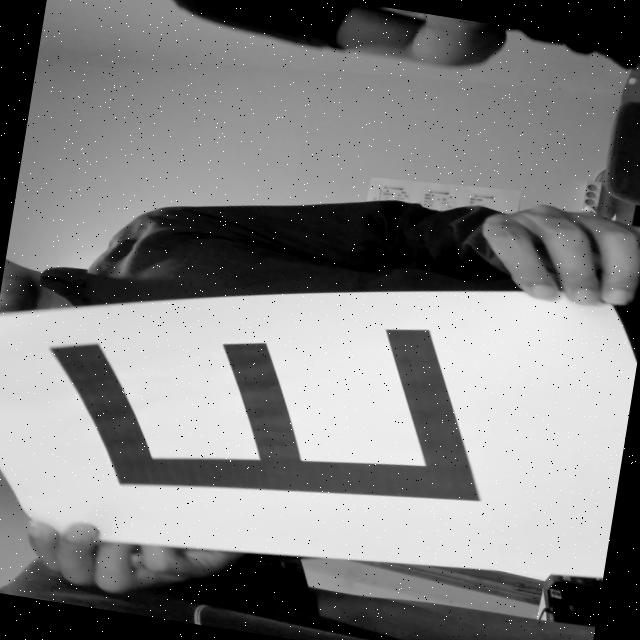e: (5, 255, 532, 556)
